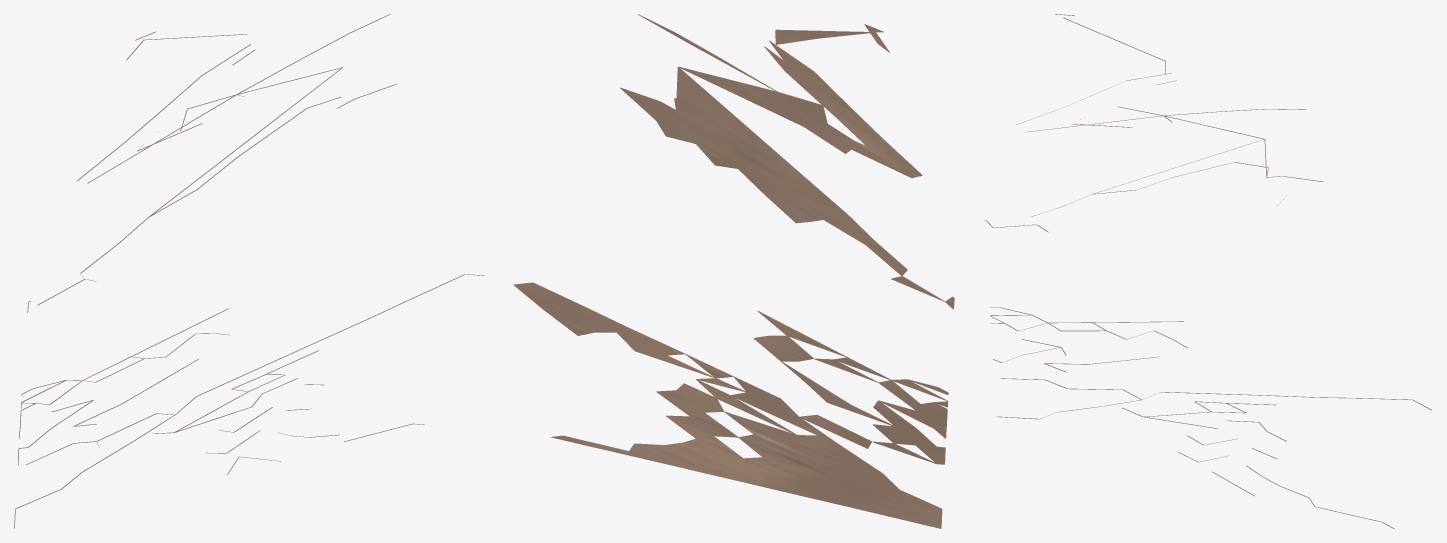
3 views of the same model, side by side, from view 1: azimuth 30°, elevation 25°; view 2: azimuth 150°, elevation 25°; view 3: azimuth 330°, elevation 25° (orthographic). The views are drawn at different scales.
Size of the model in its own units: 25.15 by 25.45 by 3.24.
Materials: 1 (1 with a texture image).
